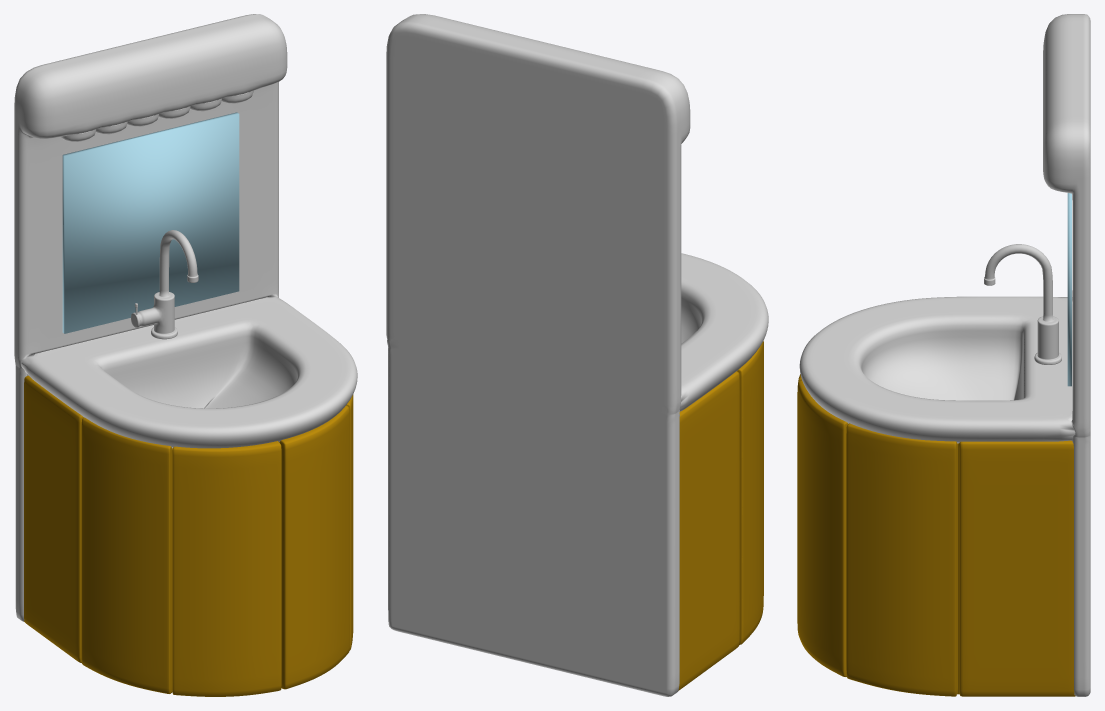
File: lavabo_v4.fbx
The picture shows the model from 3 angles, left to right: view 1: azimuth 30°, elevation 25°; view 2: azimuth 150°, elevation 25°; view 3: azimuth 270°, elevation 25°; orthographic projection. The views are drawn at different scales.
Parts seen in each view (by area): view 1: decor_bois, lavabo, miroir, robinet; view 2: lavabo, decor_bois; view 3: decor_bois, lavabo, robinet, miroir.
Part boxes in pixels (left/top/right/bottom): decor_bois: left=24, top=375, right=353, bottom=696; lavabo: left=14, top=14, right=357, bottom=621; miroir: left=62, top=112, right=239, bottom=333; robinet: left=131, top=230, right=198, bottom=339; lavabo: left=386, top=14, right=768, bottom=696; decor_bois: left=678, top=341, right=763, bottom=690; decor_bois: left=797, top=374, right=1075, bottom=696; lavabo: left=799, top=14, right=1090, bottom=696; robinet: left=984, top=244, right=1061, bottom=364; miroir: left=1067, top=193, right=1071, bottom=386.
Size of the model in its own units: 2.19 by 4.42 by 2.08.
